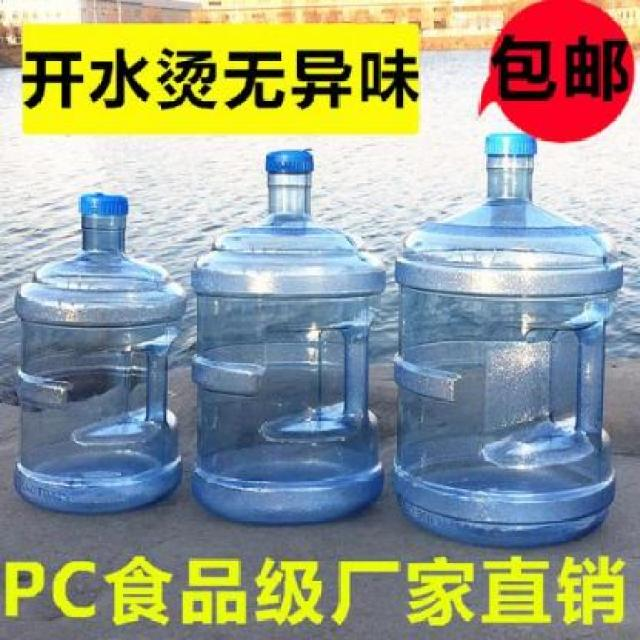coolerbottle: (388, 131, 632, 552), (188, 144, 388, 524), (12, 188, 188, 520)
